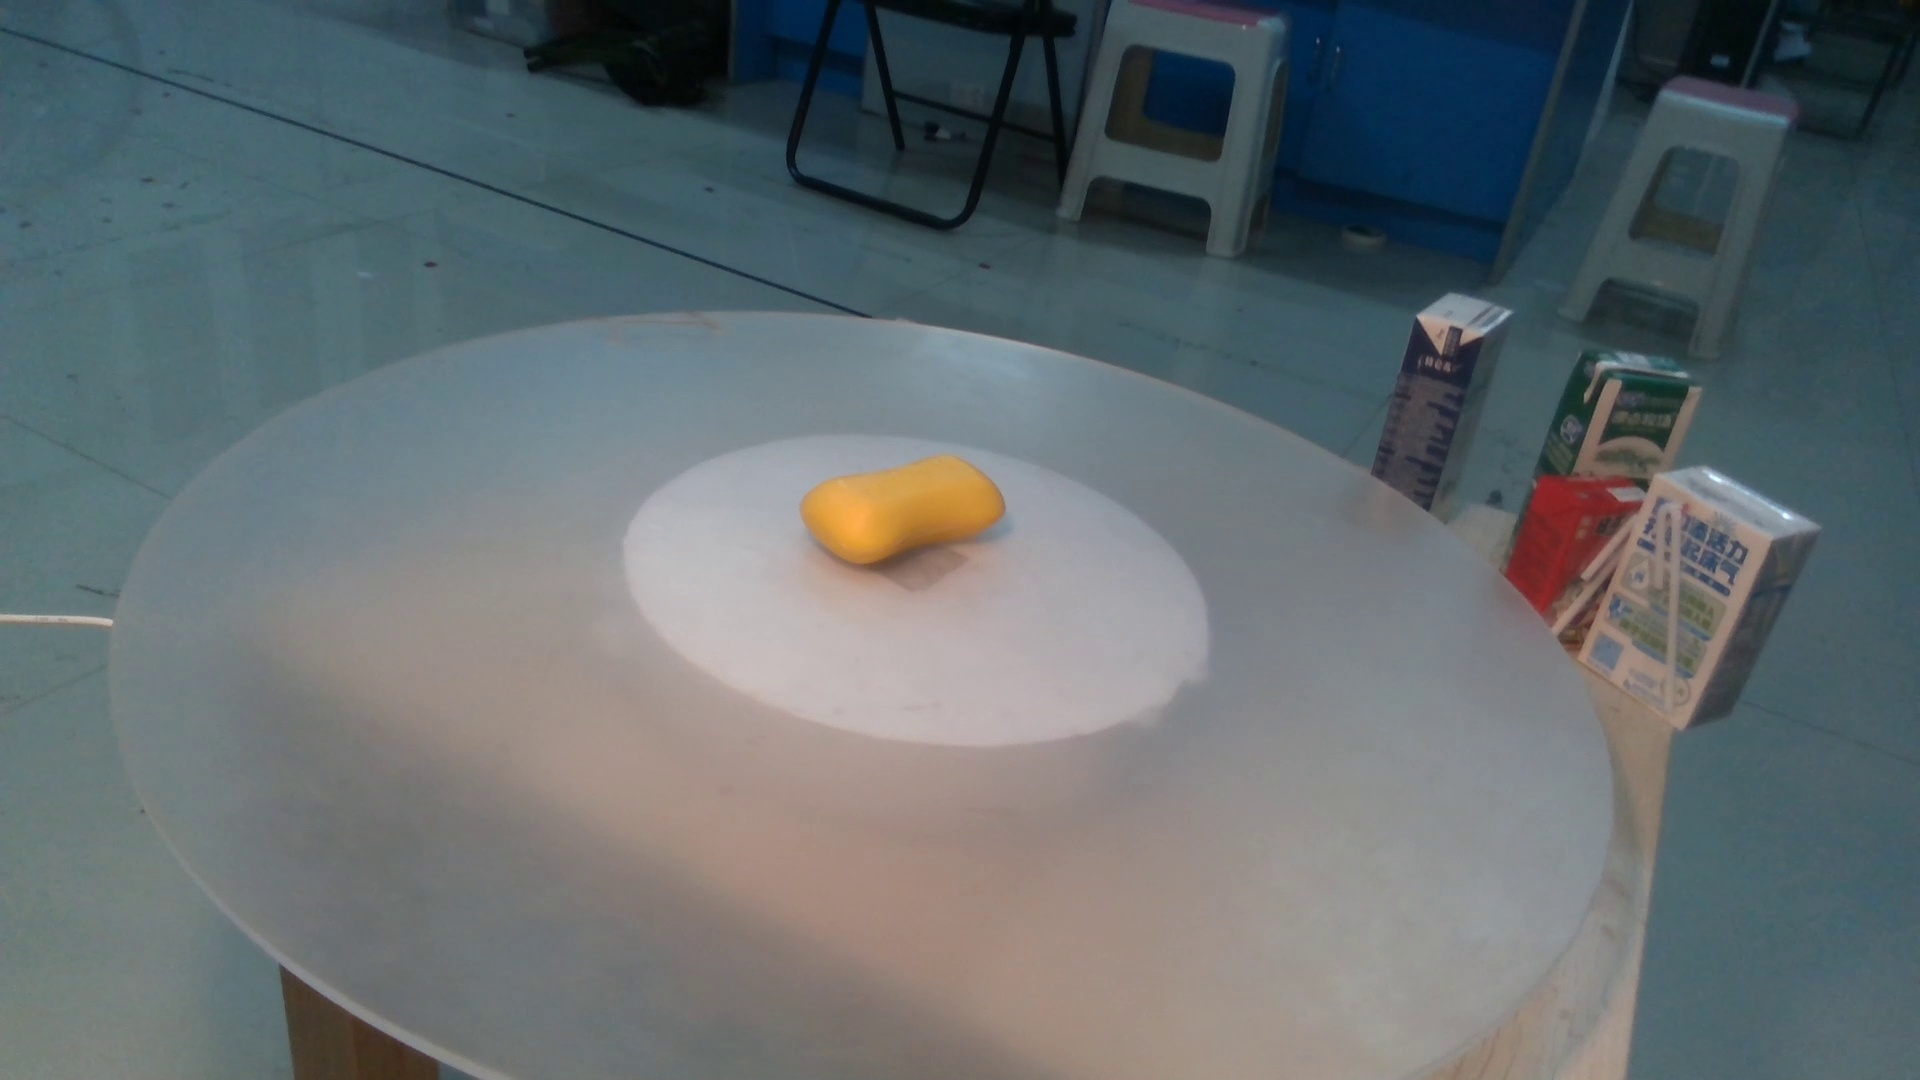CA003_1: (795, 433, 1042, 600)
